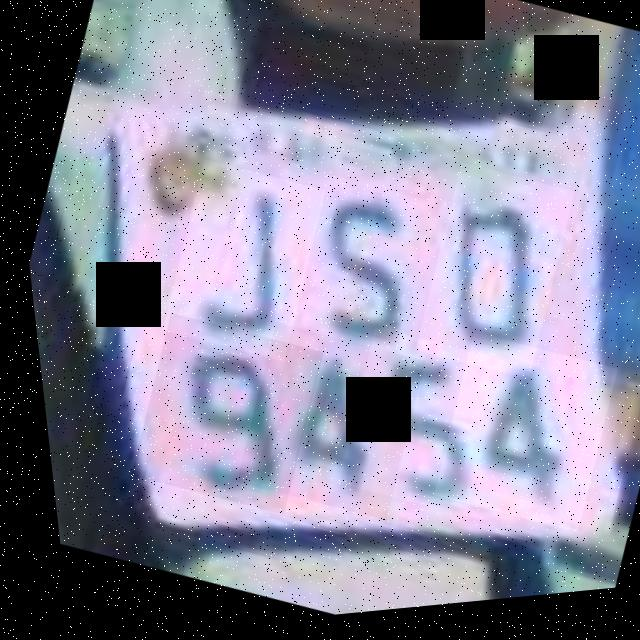1: (538, 379, 640, 553)
4: (211, 316, 429, 538), (408, 331, 622, 554)
5: (312, 325, 508, 535)
9: (106, 305, 328, 530)
J: (140, 154, 335, 376)
O: (390, 163, 585, 397)
S: (270, 172, 446, 367)
